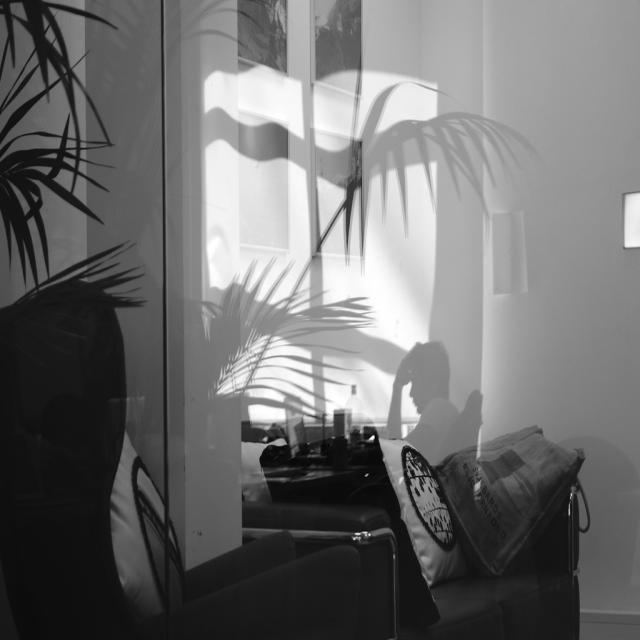Chair: (0, 268, 364, 640), (238, 440, 580, 640)
